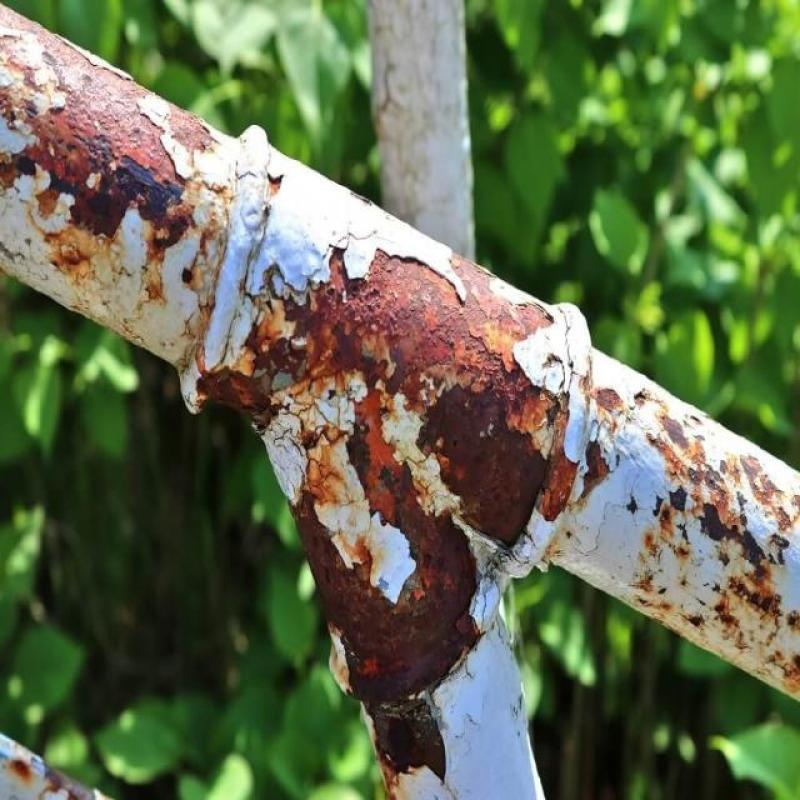corrosion: (308, 207, 610, 702), (55, 67, 245, 362)
